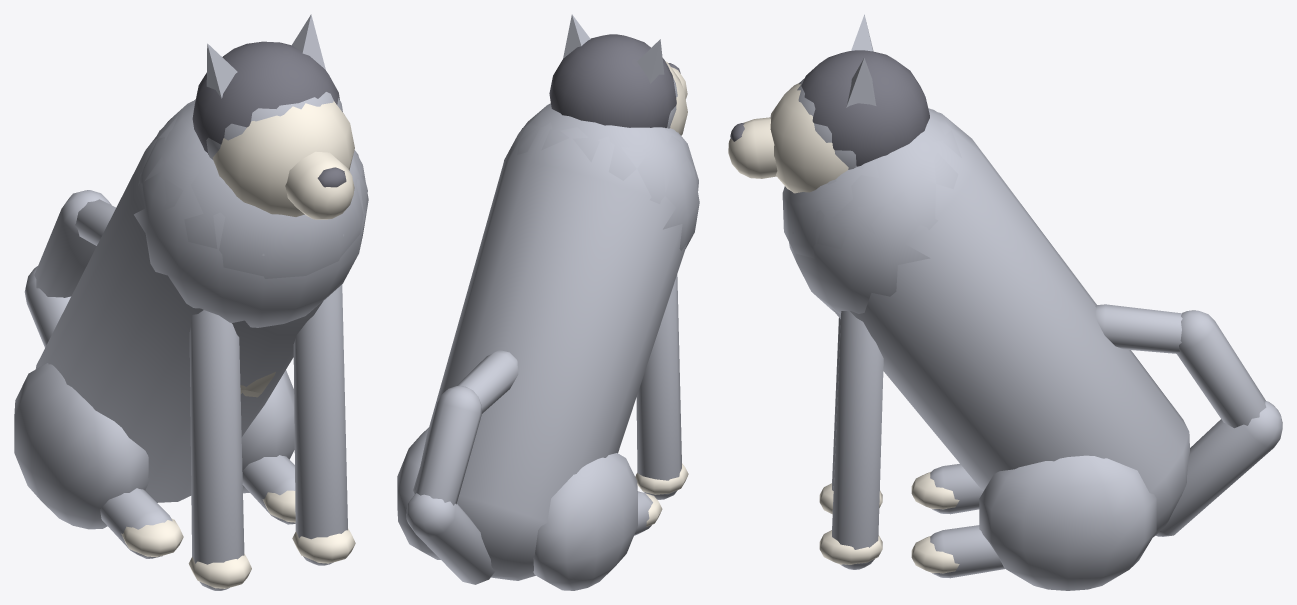
The model's file is companion-animals-and-pet-home-dog-husky-sit-9a0a05f7__20596.glb.
3 renders of one model, left to right at view 1: azimuth 30°, elevation 25°; view 2: azimuth 150°, elevation 25°; view 3: azimuth 270°, elevation 25°, orthographic. The views are drawn at different scales.
Parts seen in each view (by area): view 1: dog-husky-sit; view 2: dog-husky-sit; view 3: dog-husky-sit.
Boxes of the visible parts, x1,y1,x2,y2 form: dog-husky-sit: (14,14,368,590); dog-husky-sit: (397,14,699,590); dog-husky-sit: (728,14,1282,590).
Bounding box in the file's own units: 0.3685 × 0.7924 × 0.7687.
